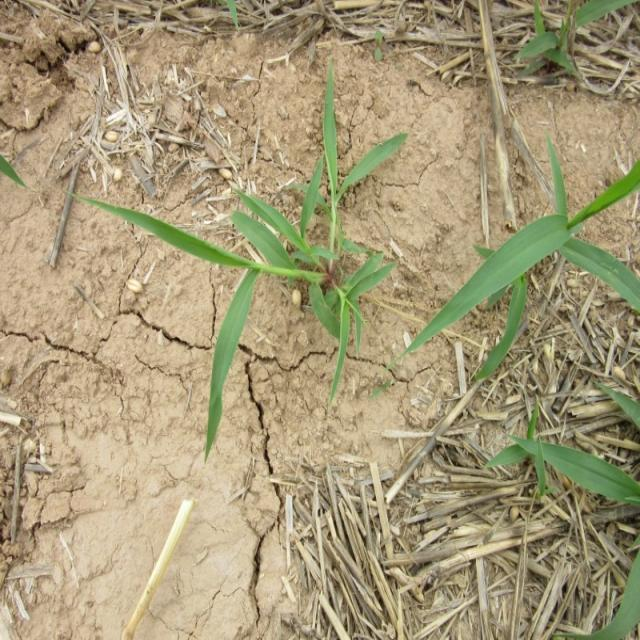bg: (82, 74, 409, 464)
